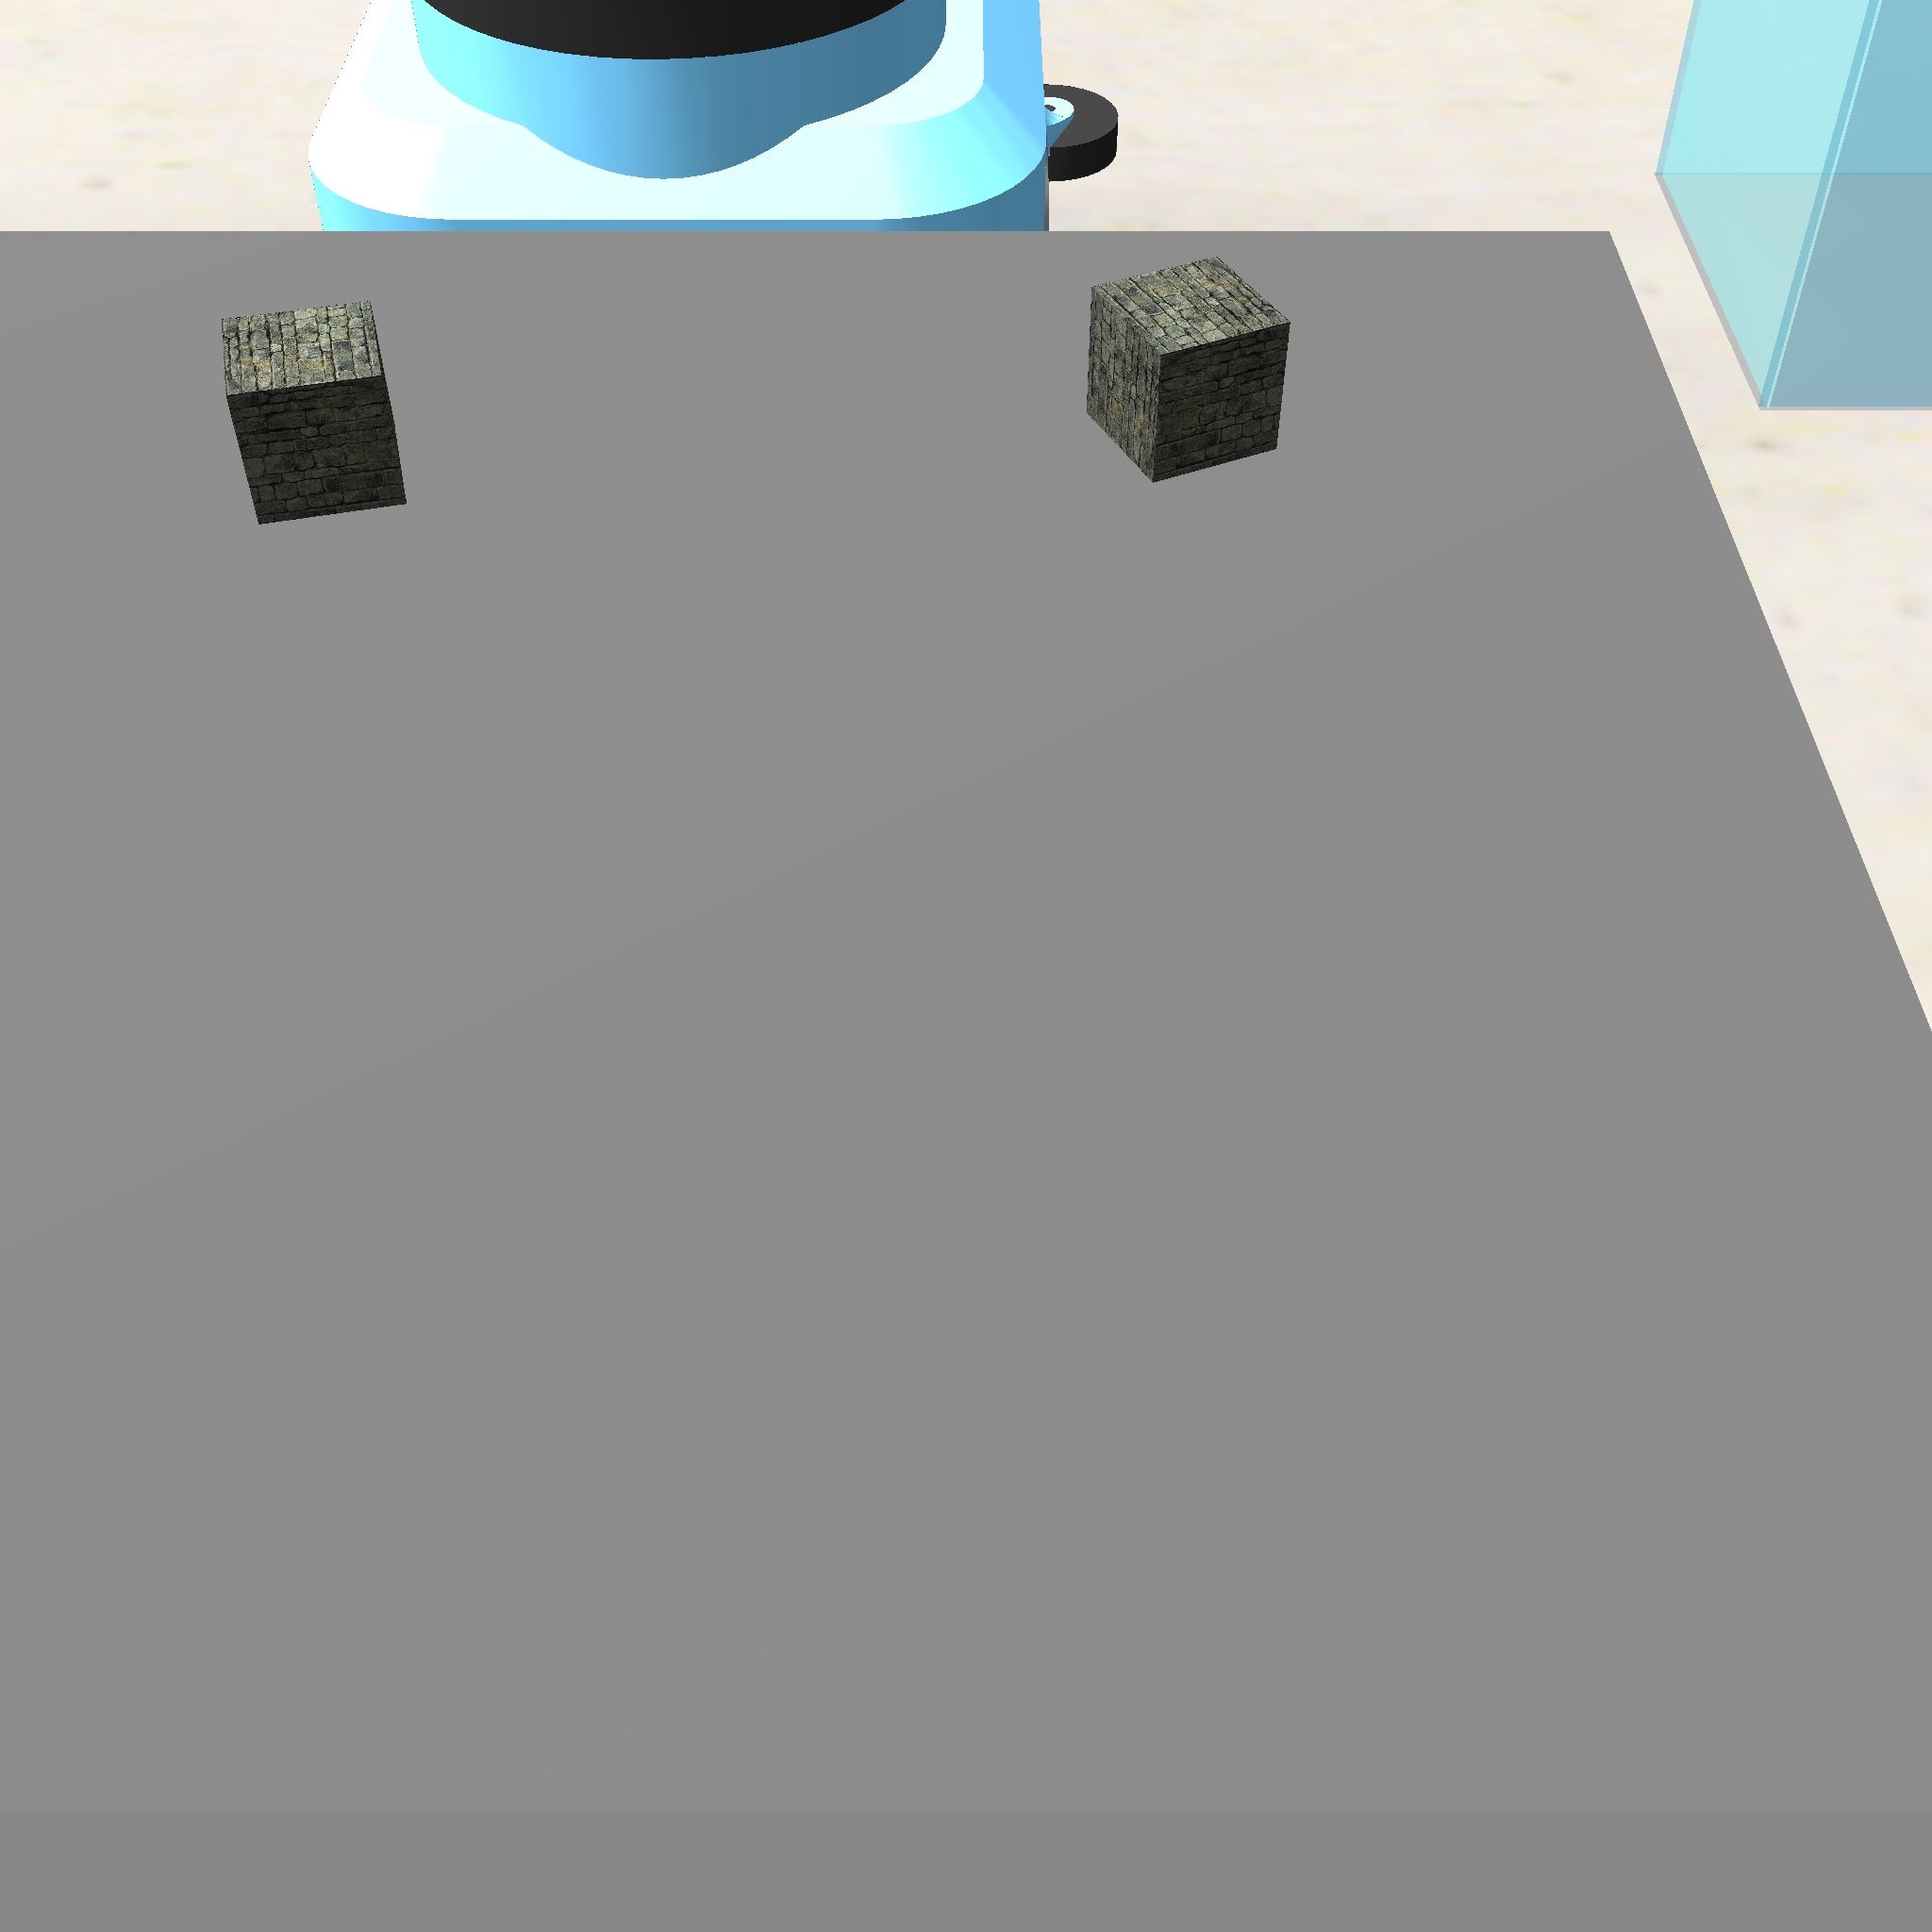cube: (1077, 248, 1299, 488), (207, 292, 414, 533)
